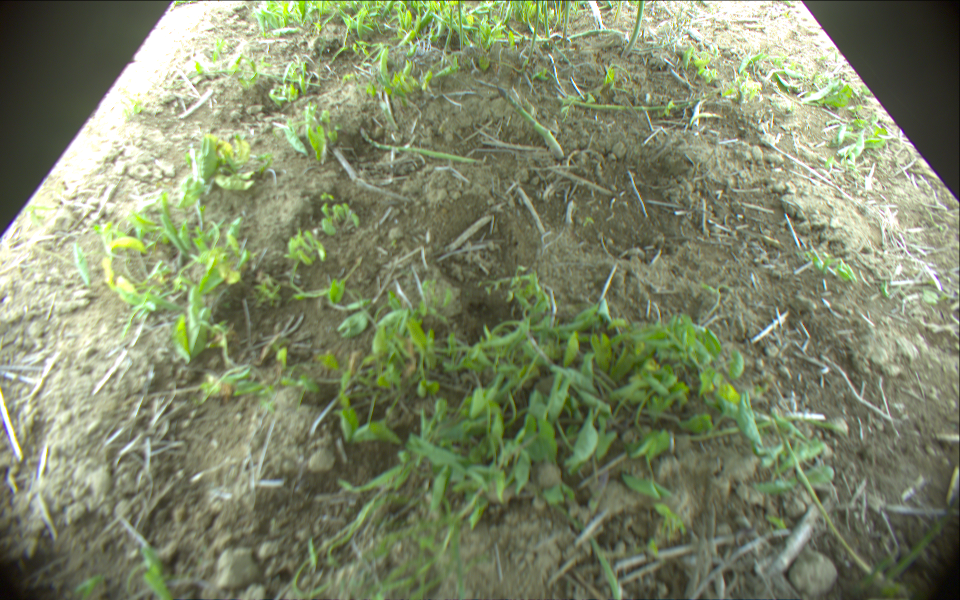aspa: (497, 89, 566, 160), (358, 125, 484, 163), (559, 96, 699, 110), (508, 29, 626, 44), (621, 1, 644, 58), (531, 1, 539, 58), (562, 1, 573, 41), (543, 1, 552, 40), (458, 1, 463, 50), (447, 8, 452, 50)
